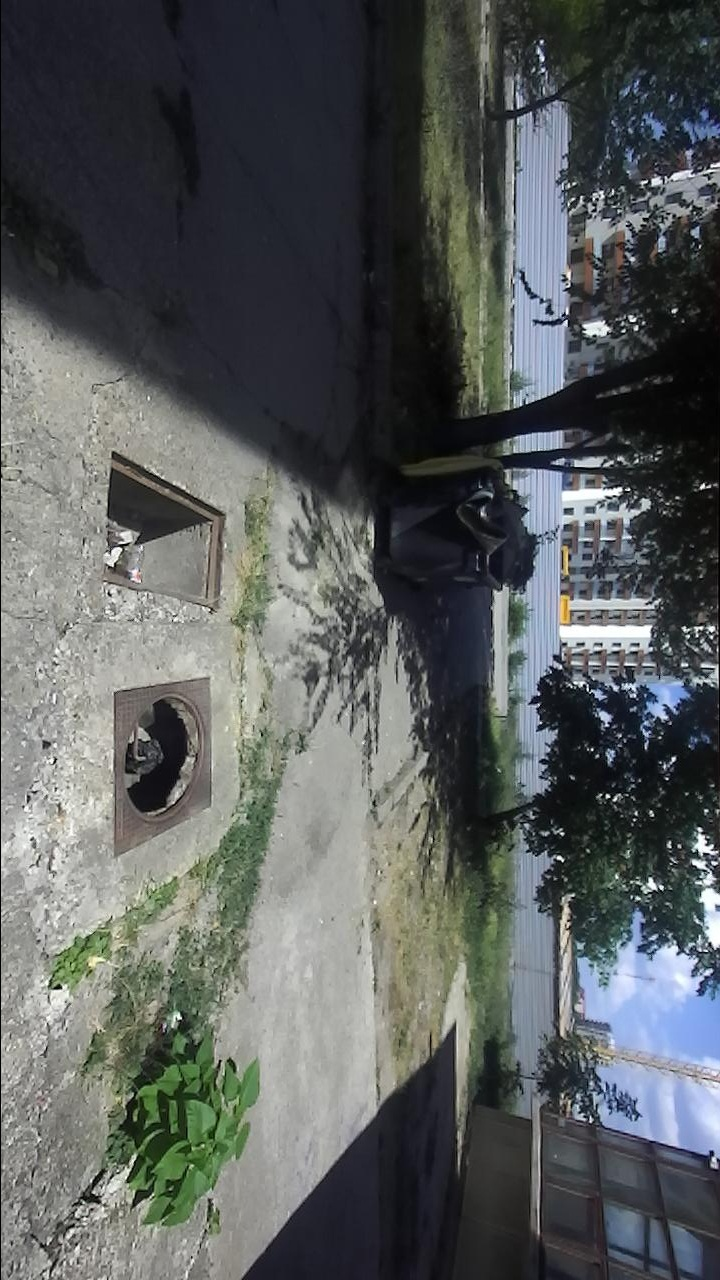drain: (105, 449, 231, 610), (115, 689, 209, 828)
